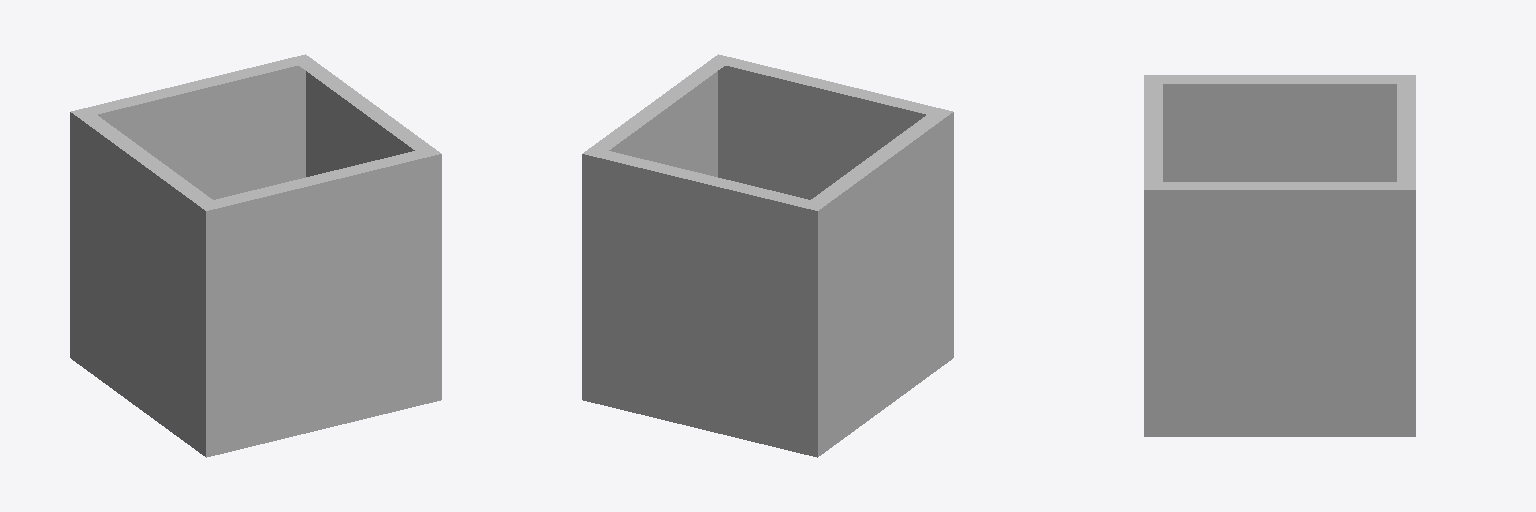
The model's file is salt_collector_4.obj.
3 views of the same model, side by side, from view 1: azimuth 30°, elevation 25°; view 2: azimuth 150°, elevation 25°; view 3: azimuth 270°, elevation 25° (orthographic).
Visible parts, largest first — view 1: Untitled_Cube.001; view 2: Untitled_Cube.001; view 3: Untitled_Cube.001.
Boxes of the visible parts, x1,y1,x2,y2 form: Untitled_Cube.001: [70, 54, 441, 457]; Untitled_Cube.001: [582, 54, 953, 457]; Untitled_Cube.001: [1144, 75, 1415, 436].
Bounding box in the file's own units: 0.875 × 0.875 × 0.875.